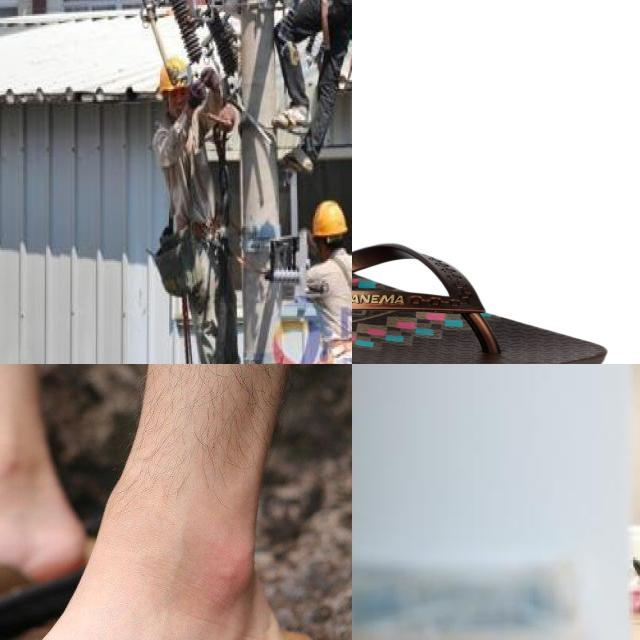Sandals: (352, 227, 609, 364)
head_helmet: (308, 198, 351, 242), (155, 54, 198, 94)
person: (152, 58, 258, 364), (269, 0, 352, 179), (283, 197, 352, 364)
shoes: (271, 98, 310, 132), (283, 139, 317, 173)
